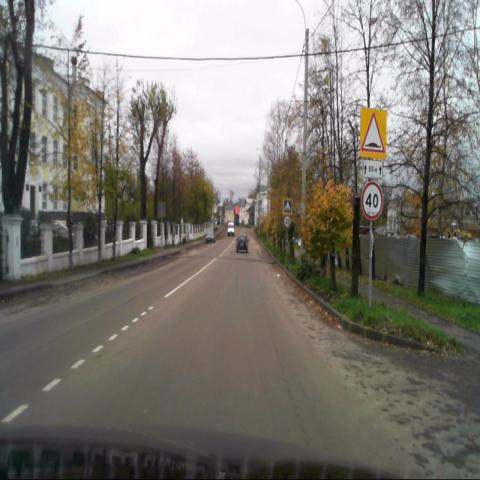3_24: (360, 181, 382, 221)
8_2_1: (363, 160, 382, 179)
